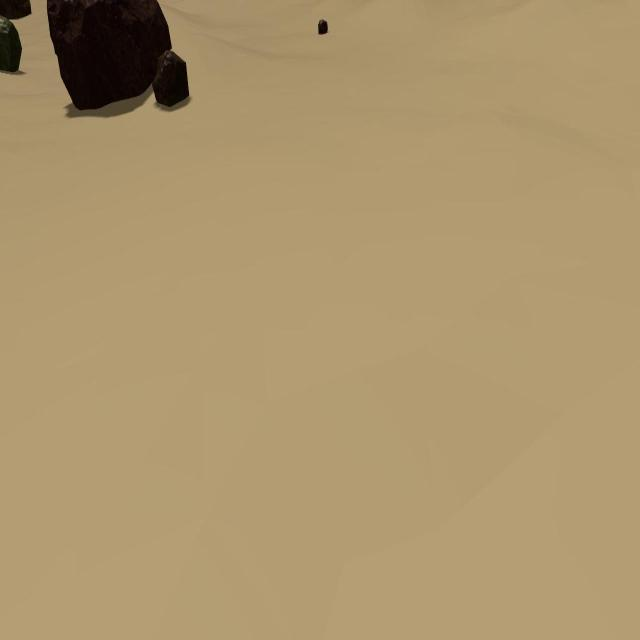rock: (46, 0, 171, 109), (152, 50, 188, 106), (0, 14, 21, 73), (0, 0, 30, 20), (318, 20, 328, 35)
